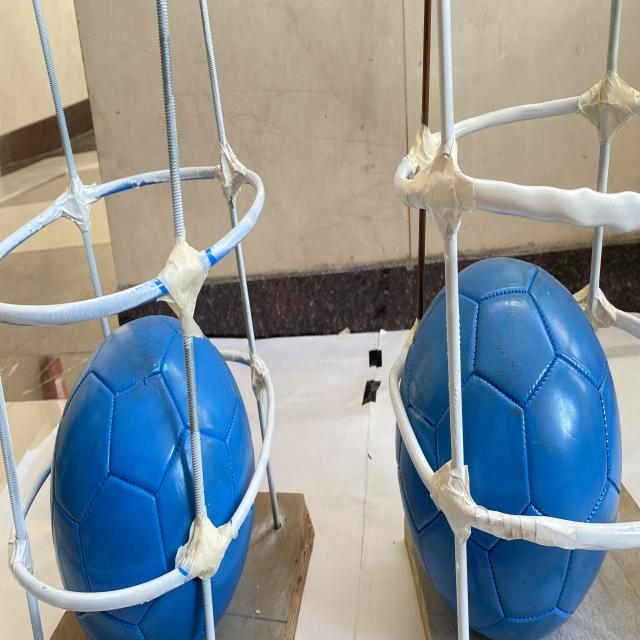blue_ball: (397, 254, 620, 640), (53, 312, 254, 640)
silo: (0, 0, 309, 637), (386, 1, 640, 640)
